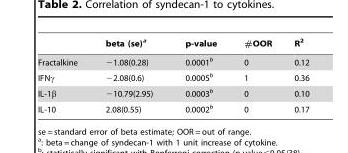table: (37, 37, 308, 113)
table column: (90, 37, 168, 113), (168, 37, 229, 113), (37, 37, 90, 113), (229, 37, 282, 113), (282, 37, 308, 113)
table column header: (37, 37, 308, 51)
table row: (37, 51, 308, 69), (37, 84, 308, 100), (37, 69, 308, 84), (37, 37, 308, 51), (37, 100, 308, 113)
